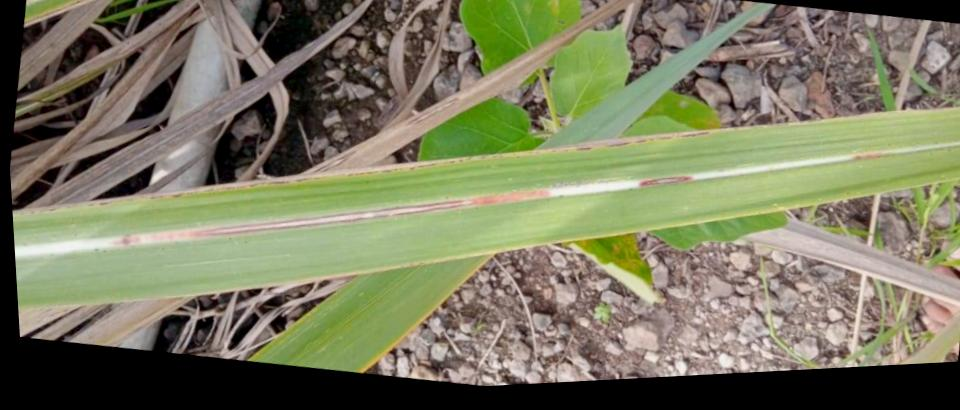RedRot: (149, 188, 550, 242), (639, 174, 694, 188), (107, 234, 143, 246), (851, 150, 890, 161)
